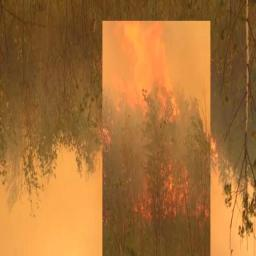Low smoke: (12, 15, 256, 256)
